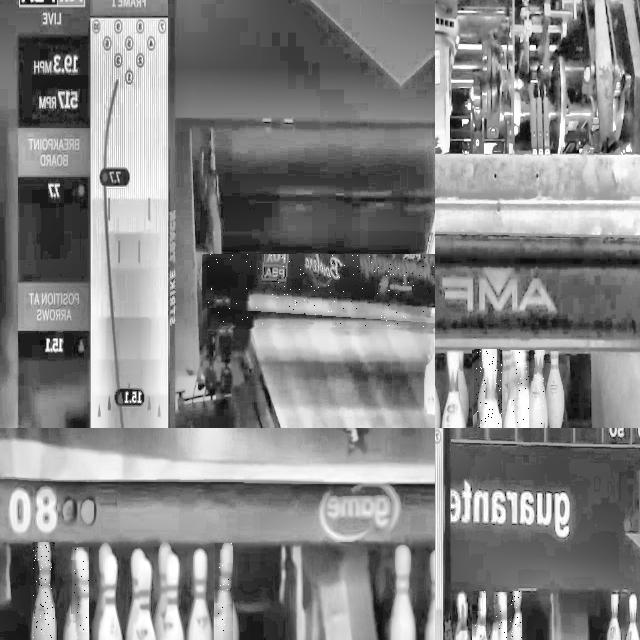bowling-pins: (187, 549, 212, 640), (97, 553, 122, 640), (33, 543, 55, 640), (160, 552, 184, 640), (131, 558, 156, 640), (92, 543, 112, 640), (441, 351, 465, 428), (124, 548, 144, 640), (476, 350, 498, 428), (216, 543, 233, 640), (154, 544, 171, 640), (546, 351, 565, 428), (74, 547, 88, 640), (512, 351, 528, 428), (530, 351, 544, 428), (454, 592, 469, 640), (607, 593, 621, 640), (626, 593, 640, 640), (510, 592, 521, 640), (496, 593, 507, 640), (475, 591, 485, 640)
sweep board: (435, 235, 640, 350), (205, 255, 435, 319)
